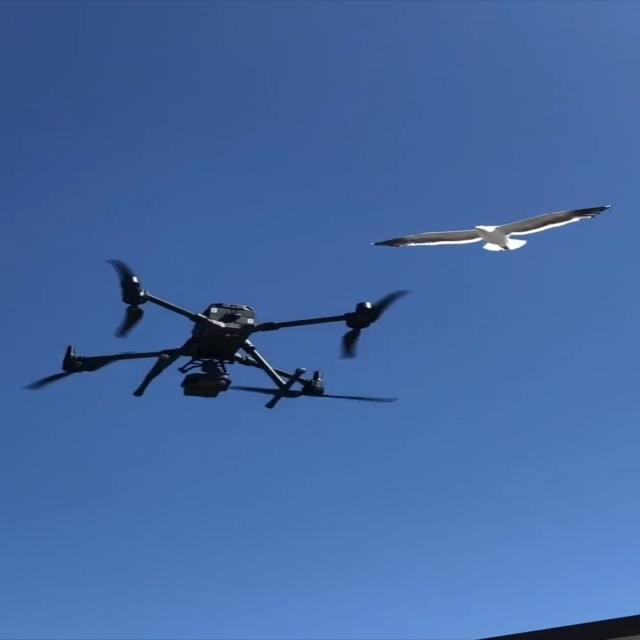bird: (368, 204, 612, 252)
drone: (21, 258, 412, 409)
